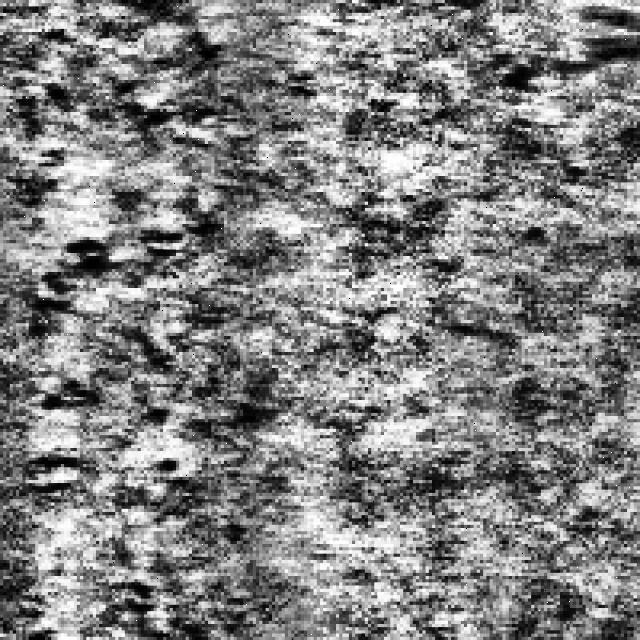Crazing: (7, 9, 244, 372), (138, 378, 278, 634), (106, 3, 330, 160), (499, 0, 640, 86)
